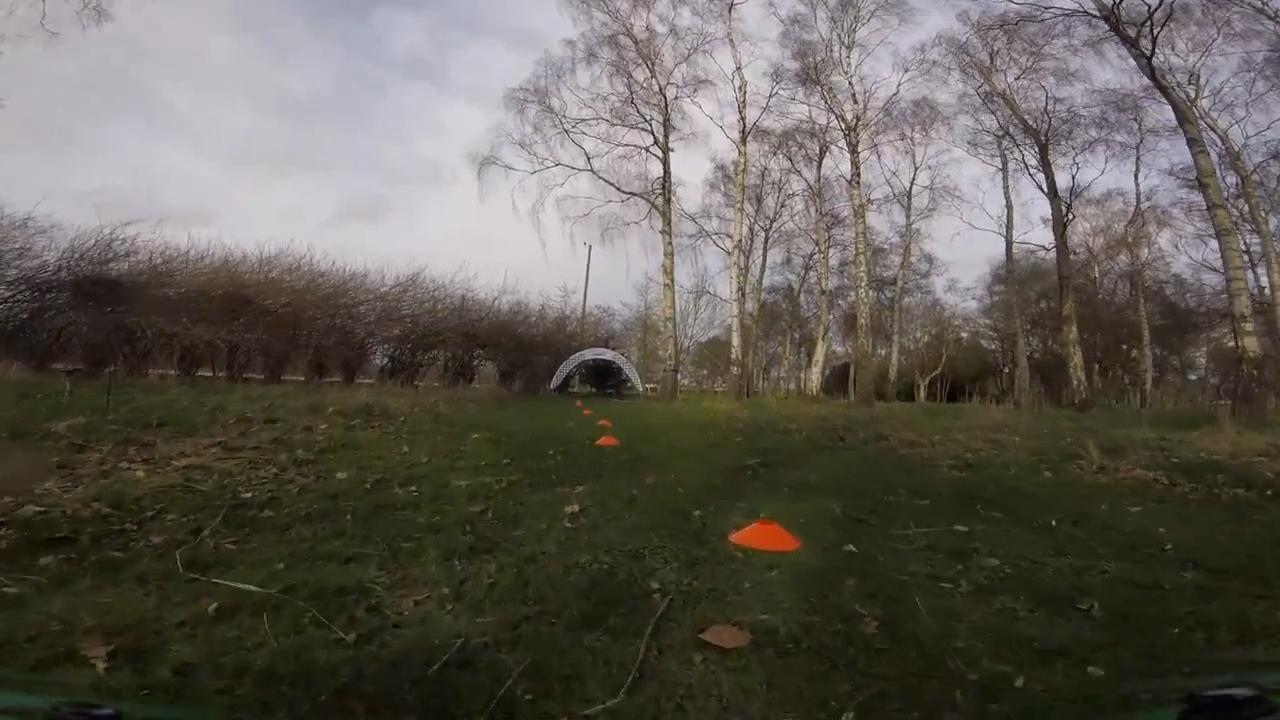gate: (548, 344, 647, 398)
